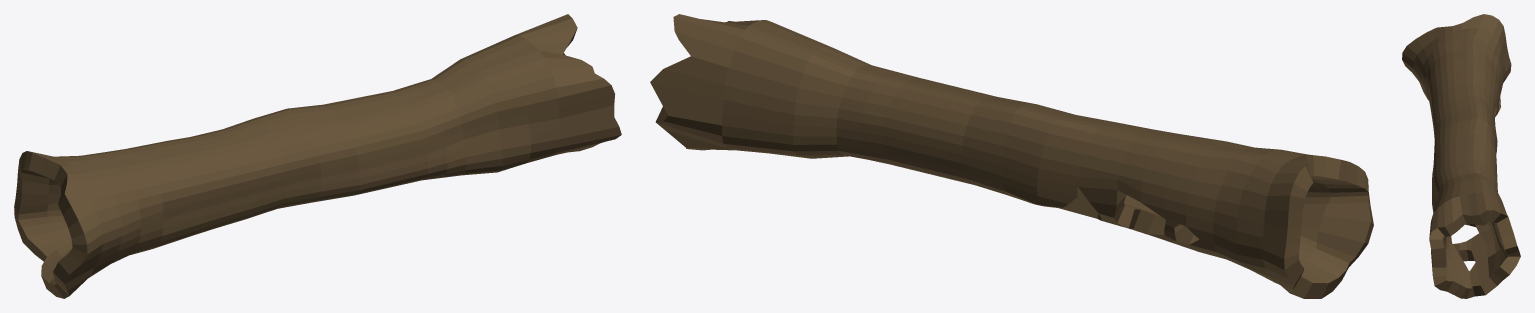
File: tronco2.fbx
3 views of the same model, side by side, from view 1: azimuth 30°, elevation 25°; view 2: azimuth 150°, elevation 25°; view 3: azimuth 270°, elevation 25° (orthographic). The views are drawn at different scales.
Parts seen in each view (by area): view 1: Cylinder.005; view 2: Cylinder.005; view 3: Cylinder.005.
Boxes of the visible parts, x1=… form: Cylinder.005: x1=14, y1=14, x2=621, y2=298; Cylinder.005: x1=650, y1=14, x2=1373, y2=298; Cylinder.005: x1=1402, y1=14, x2=1520, y2=298.
Bounding box in the file's own units: 2269 × 487 × 548.
Materials: 1 (1 with a texture image).
